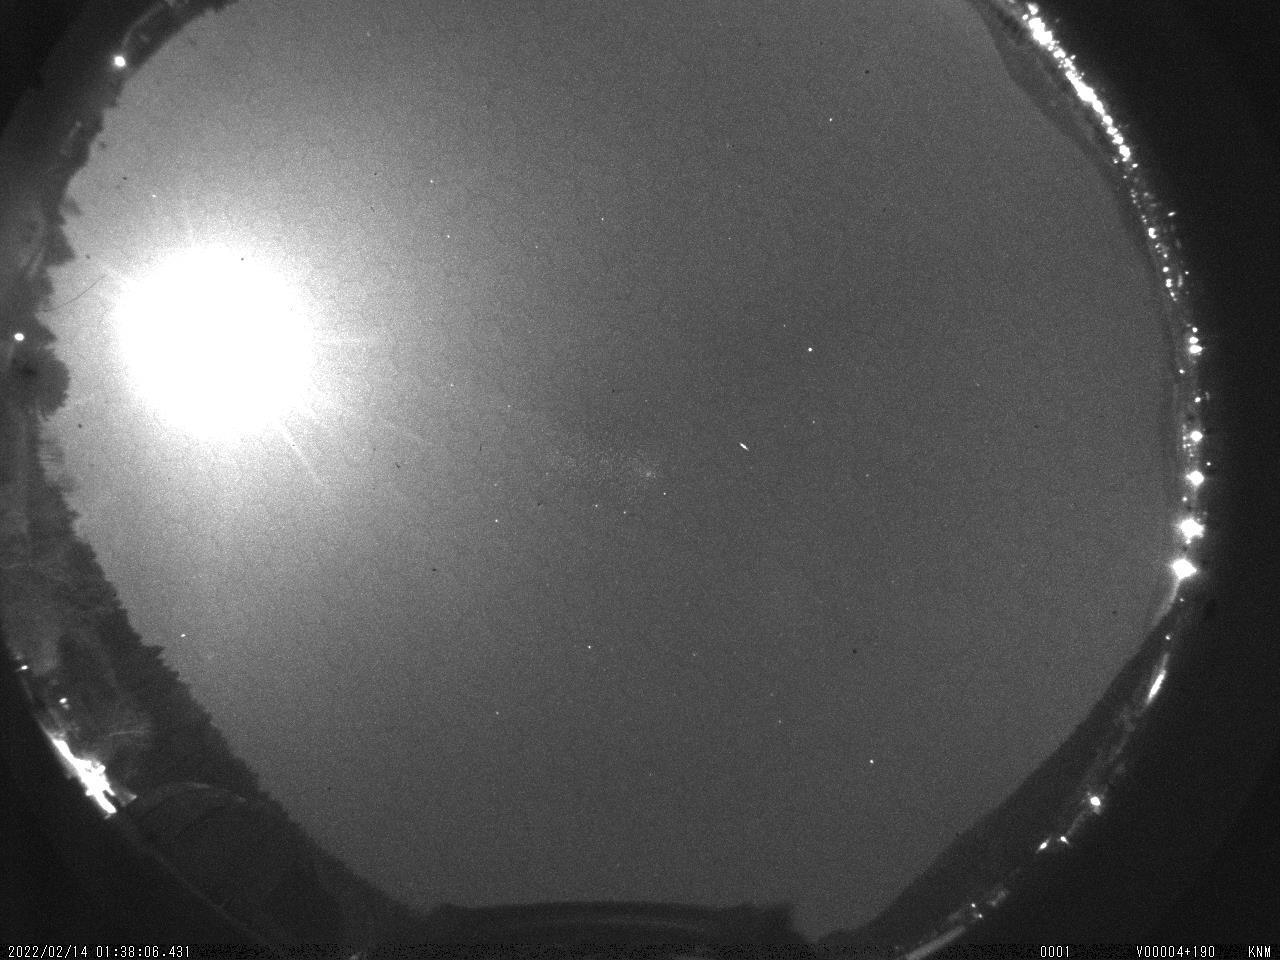Meteor: (733, 435, 754, 459)
